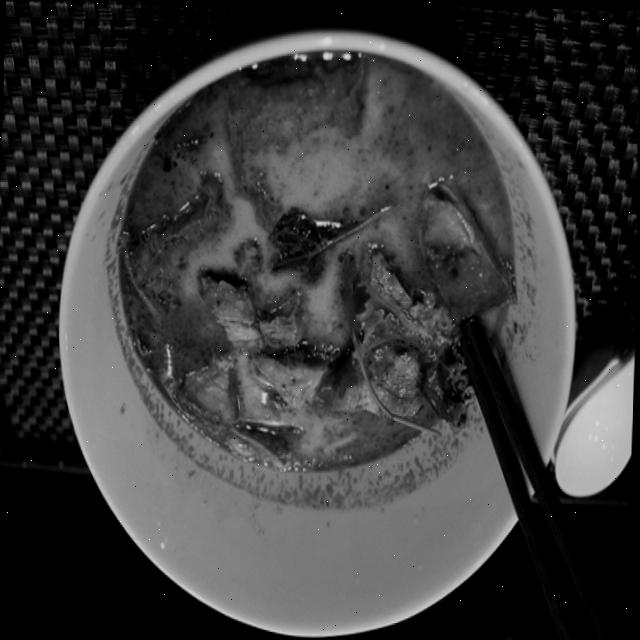面条主食: (68, 35, 558, 563)
